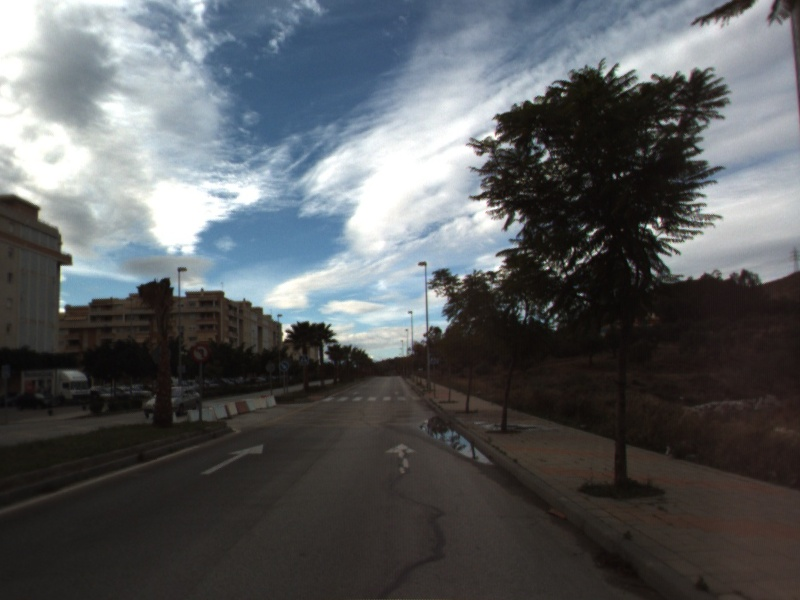STRAIGHT: (199, 442, 265, 476), (383, 441, 420, 476)
